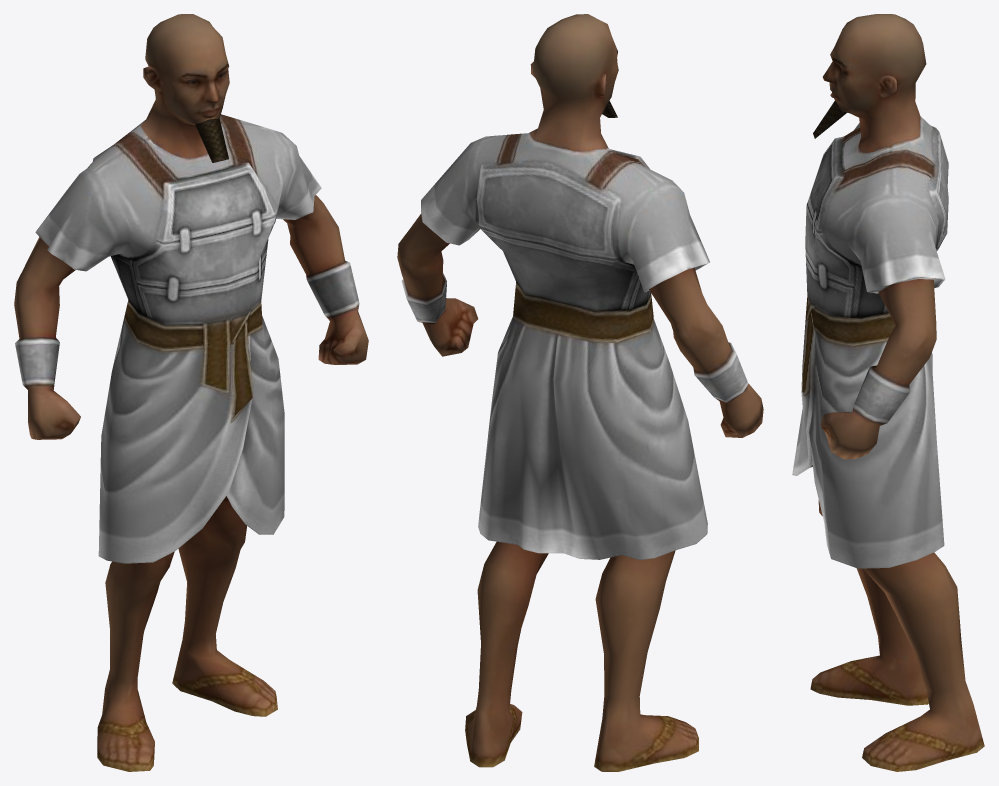
The model's file is rider-slice-base.glb.
3 views of the same model, side by side, from view 1: azimuth 30°, elevation 25°; view 2: azimuth 150°, elevation 25°; view 3: azimuth 270°, elevation 25° (orthographic).
Size of the model in its own units: 0.9964 by 2.04 by 0.5013.
Materials: 1 (1 with a texture image).
